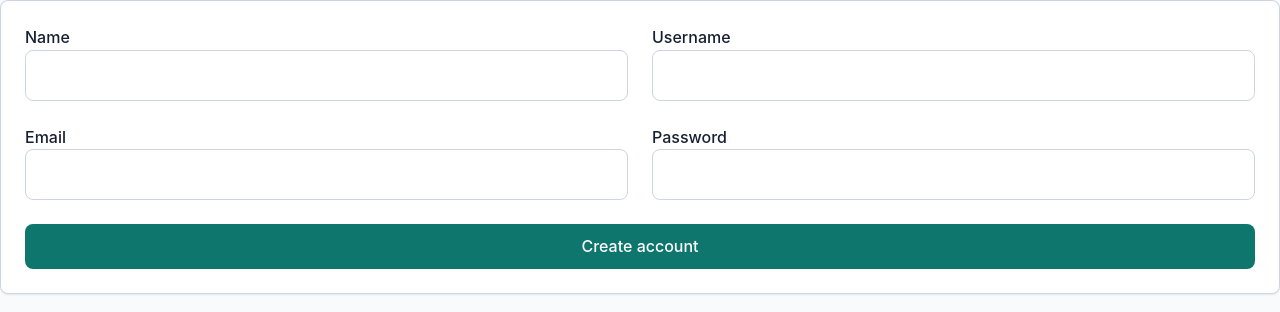
Test: RegistrationForm › shows loading state and prevents duplicate submits
This screenshot has width=1280, height=312.
Type "Ada Lovelace" into the field labelled "Name" at (326, 75), box [25,50,628,101]
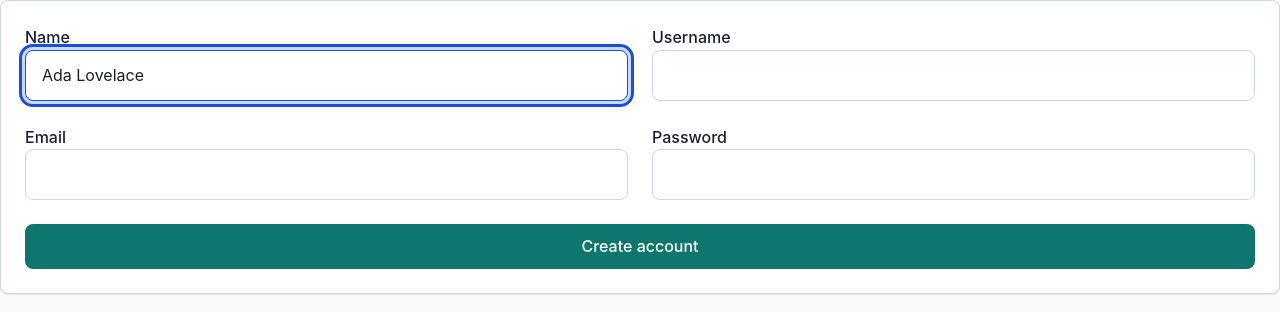
Type "ada" into the field labelled "Username" at (954, 75), box [652,50,1255,101]
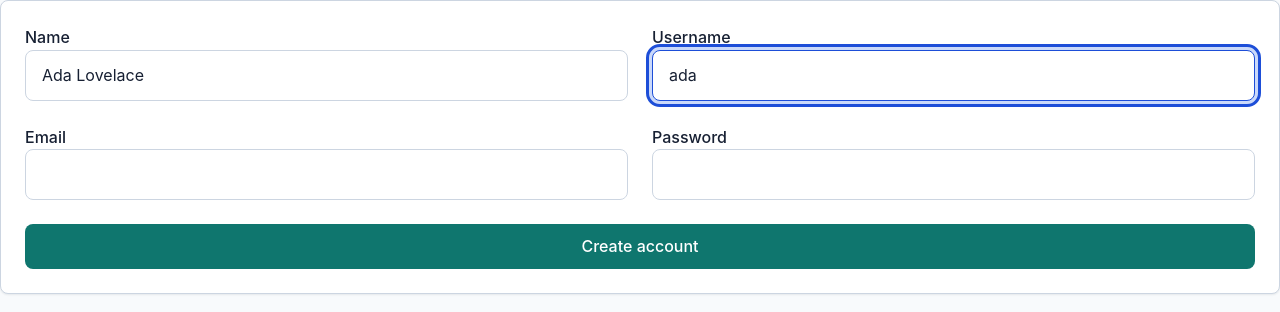
Type "ada@example.com" into the field labelled "Email" at (326, 175), box [25,149,628,200]
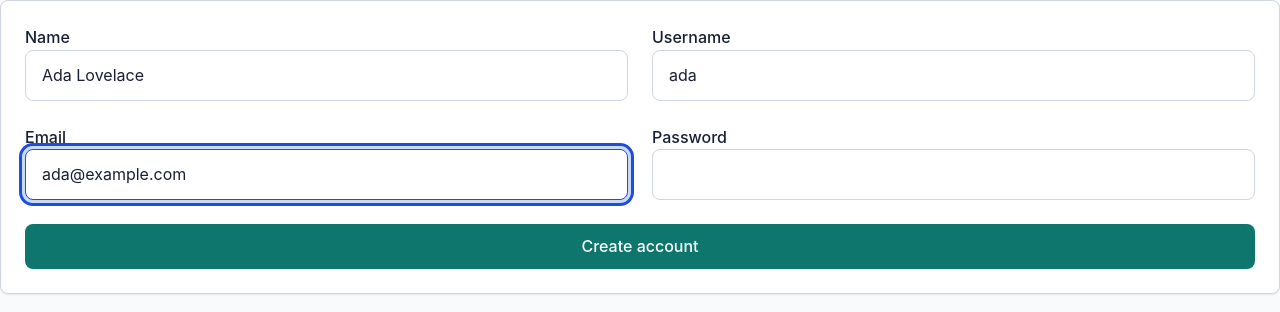
Type "correct-horse-battery-staple" into the password field labelled "Password" at (954, 175), box [652,149,1255,200]
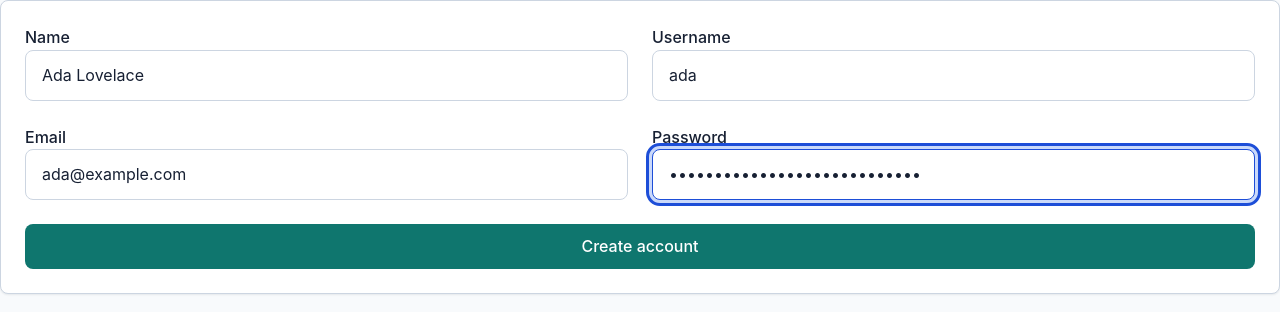
Click the button "Create account" at (640, 246), box [25,224,1255,269]
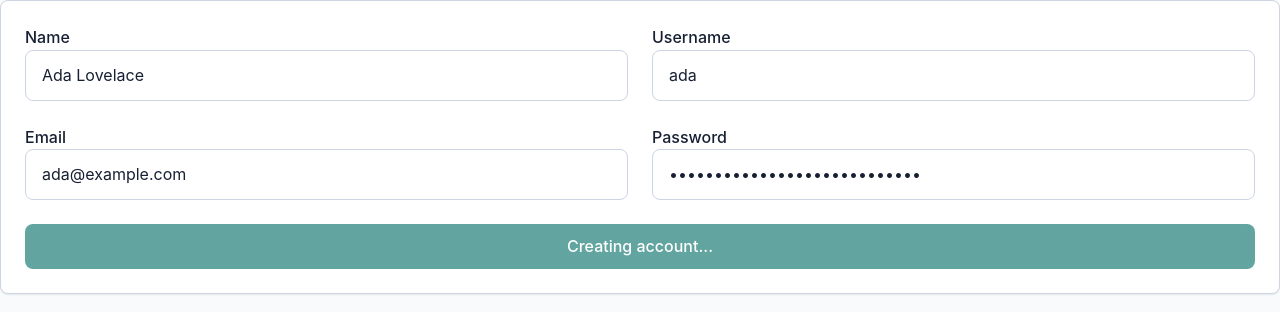
Expected: the button named "create account" is disabled
Expected: the button "Creating account..." is disabled
Click the button "Creating account..." at (640, 246), box [25,224,1255,269]
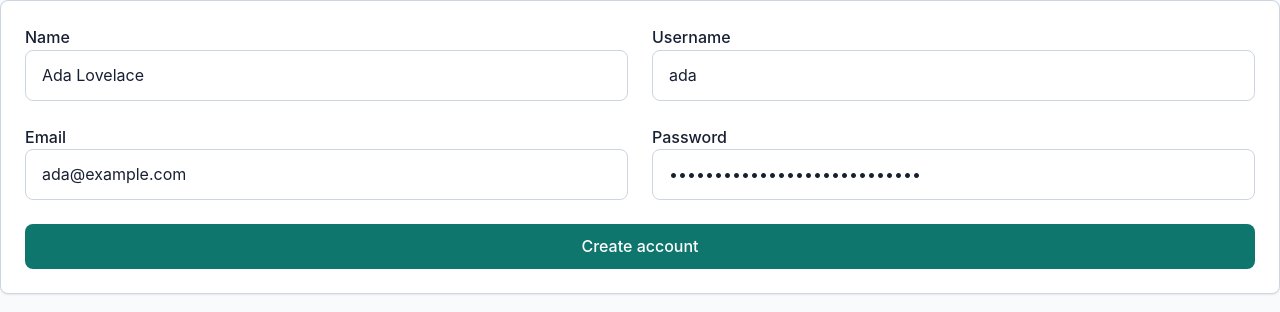
Expected: the button named "creating account" is enabled, [25,224,1255,269]
